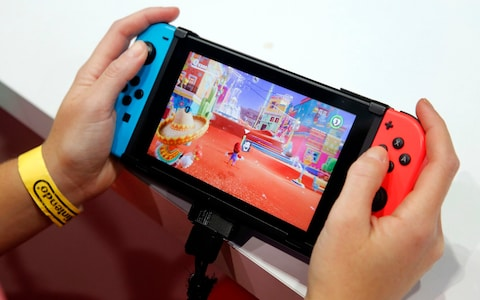NintendoSwitch: (71, 19, 436, 269)
